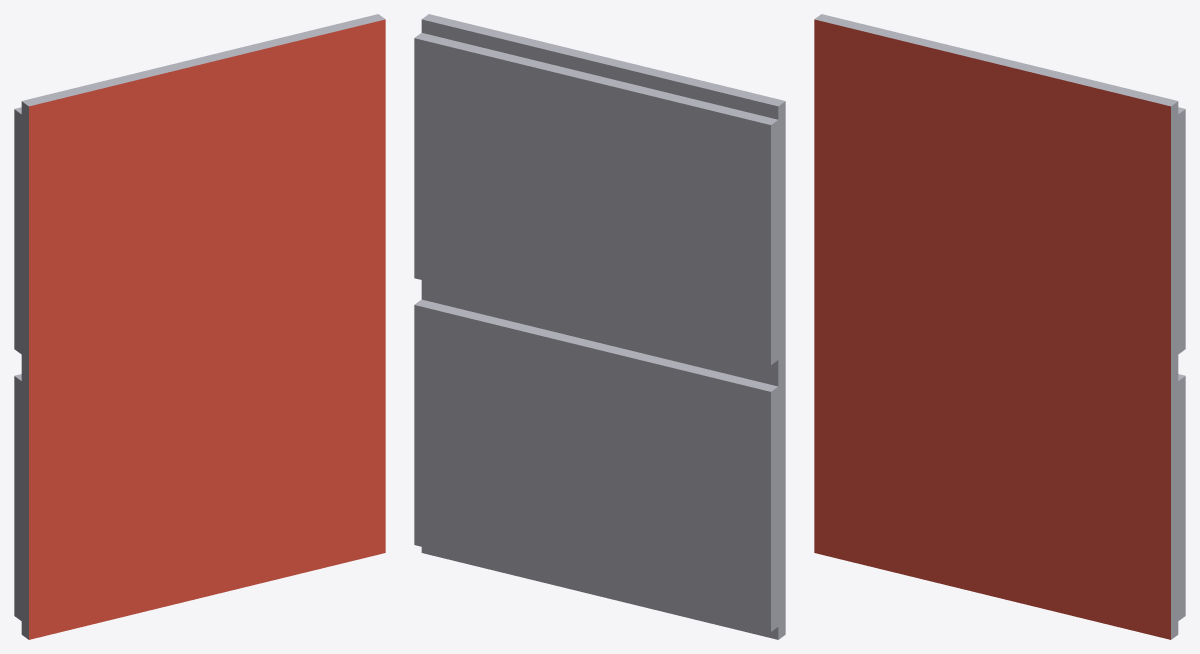
File: path_tilesShort.001.obj
3 views of the same model, side by side, from view 1: azimuth 30°, elevation 25°; view 2: azimuth 150°, elevation 25°; view 3: azimuth 330°, elevation 25° (orthographic).
Parts seen in each view (by area): view 1: path_tilesShort.001; view 2: path_tilesShort.001; view 3: path_tilesShort.001.
Boxes of the visible parts, bbox=[...] form: path_tilesShort.001: bbox=[14, 14, 385, 639]; path_tilesShort.001: bbox=[414, 14, 785, 639]; path_tilesShort.001: bbox=[814, 14, 1185, 639].
Size of the model in its own units: 0.14 by 0.2 by 0.01.
